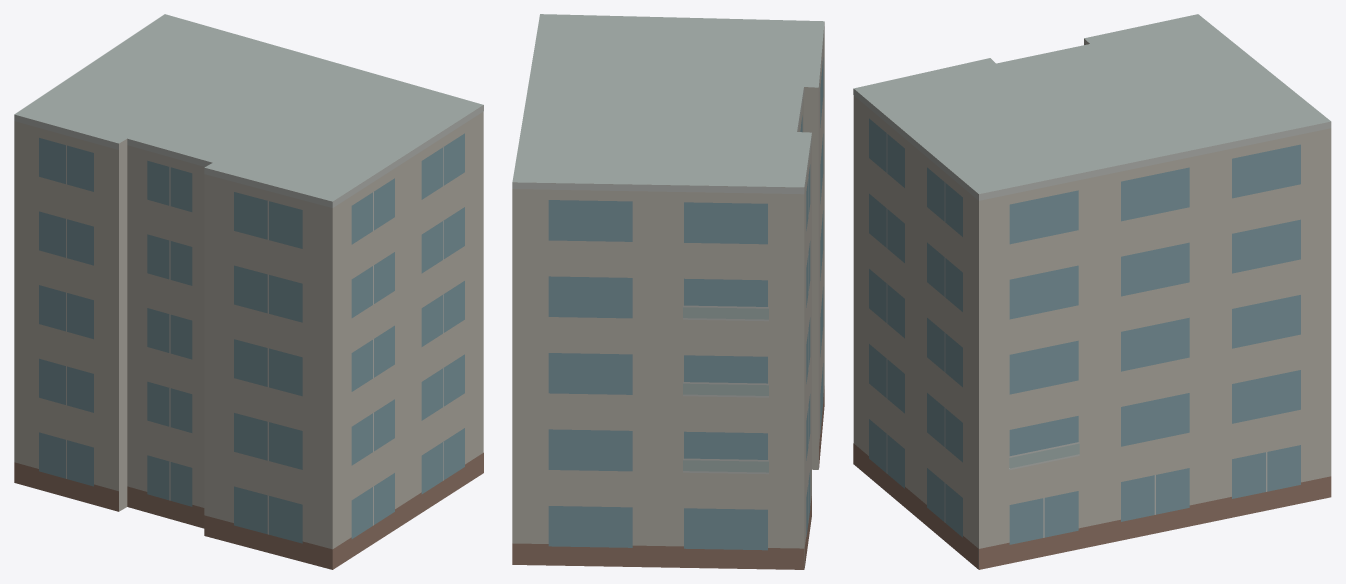
The model's file is survey-upis-32707265.glb.
The picture shows the model from 3 angles, left to right: view 1: azimuth 30°, elevation 25°; view 2: azimuth 150°, elevation 25°; view 3: azimuth 270°, elevation 25°; orthographic projection. The views are drawn at different scales.
Visible parts, largest first — view 1: survey-upis-32707265.tmp; view 2: survey-upis-32707265.tmp; view 3: survey-upis-32707265.tmp.
Part boxes in pixels (x1,y1,x2,y2): survey-upis-32707265.tmp: (14, 14, 483, 569); survey-upis-32707265.tmp: (512, 14, 824, 569); survey-upis-32707265.tmp: (853, 14, 1331, 569).
Size of the model in its own units: 14.21 by 13.8 by 15.92.
